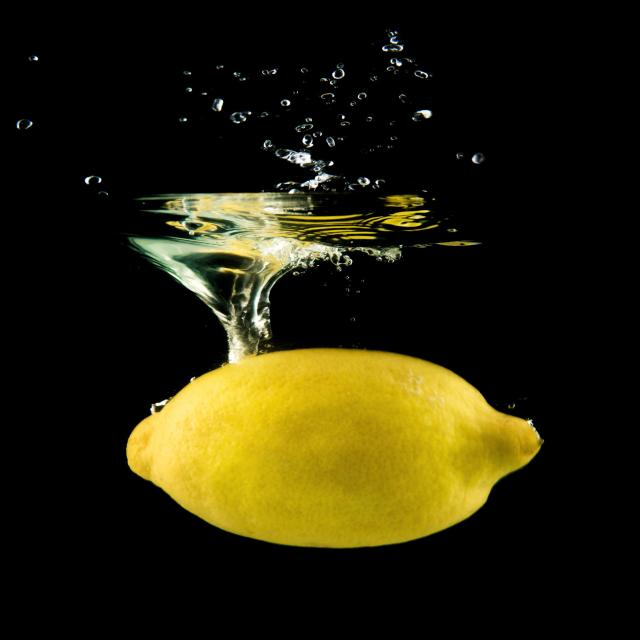lemon: (114, 342, 554, 553)
